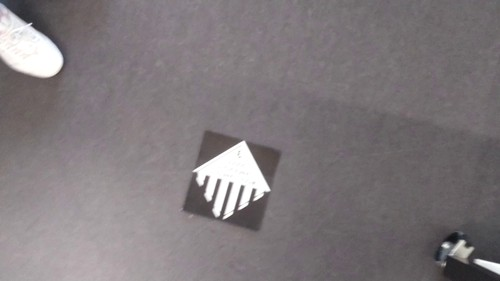misgoods: (192, 142, 277, 221)
